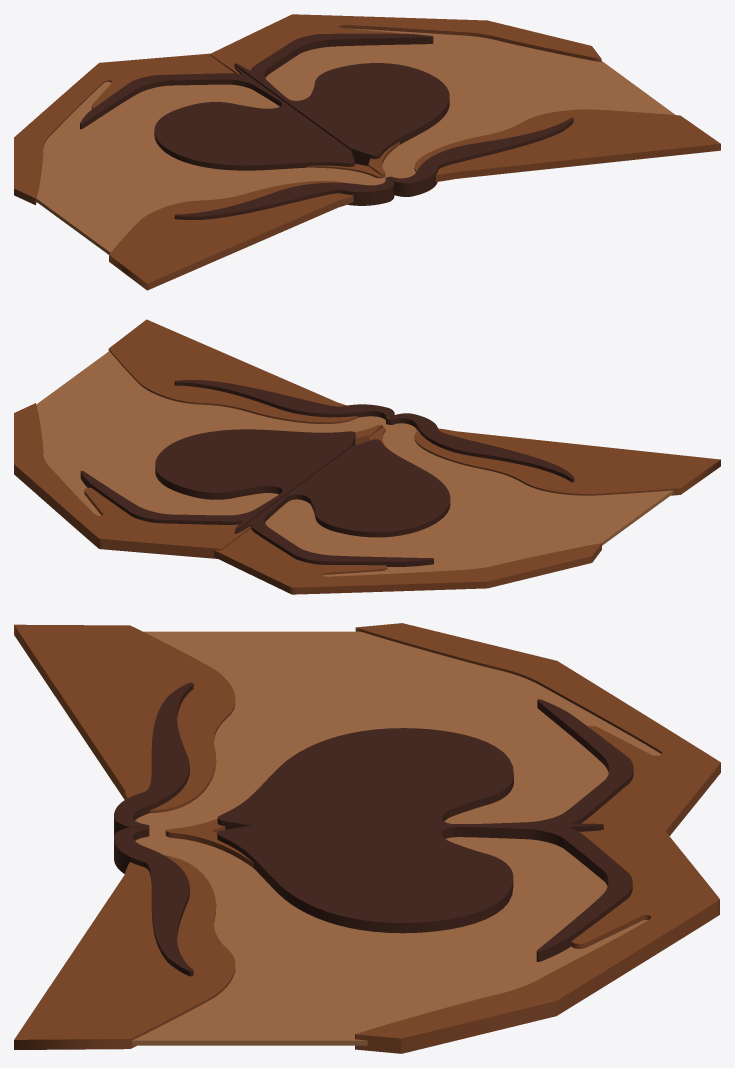
Rendered from emoji_u1faf6_1f3fe.glb.
The picture shows the model from 3 angles, top to bottom: view 1: azimuth 30°, elevation 25°; view 2: azimuth 150°, elevation 25°; view 3: azimuth 270°, elevation 25°; orthographic projection. The views are drawn at different scales.
Visible parts, largest first — view 1: emoji_u1faf6_1f3fe; view 2: emoji_u1faf6_1f3fe; view 3: emoji_u1faf6_1f3fe.
Part boxes in pixels (left/top/right/bottom): emoji_u1faf6_1f3fe: left=14, top=14, right=720, bottom=290; emoji_u1faf6_1f3fe: left=14, top=319, right=720, bottom=594; emoji_u1faf6_1f3fe: left=14, top=623, right=720, bottom=1053.
Bounding box in the file's own units: 0.0353 × 0.001 × 0.0252.
